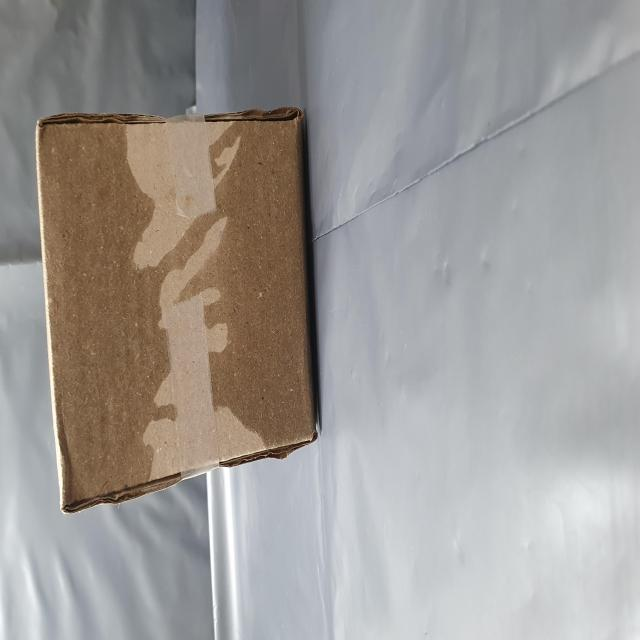wet: (72, 77, 302, 564)
